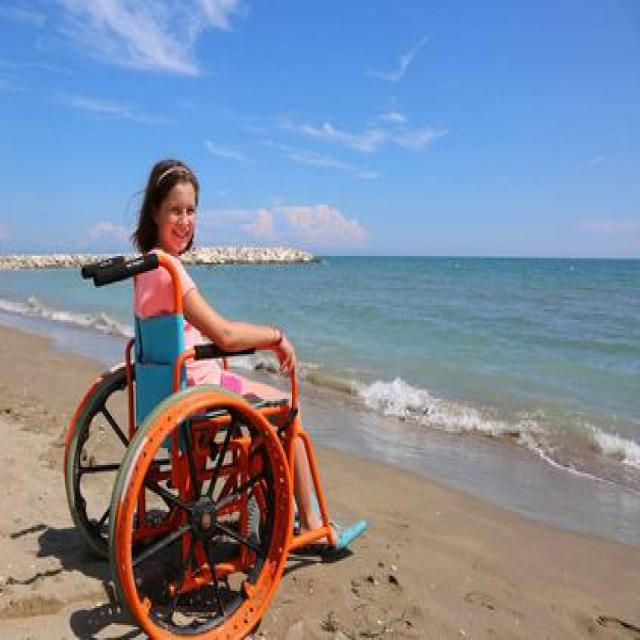wheelchairs: (58, 239, 357, 640)
